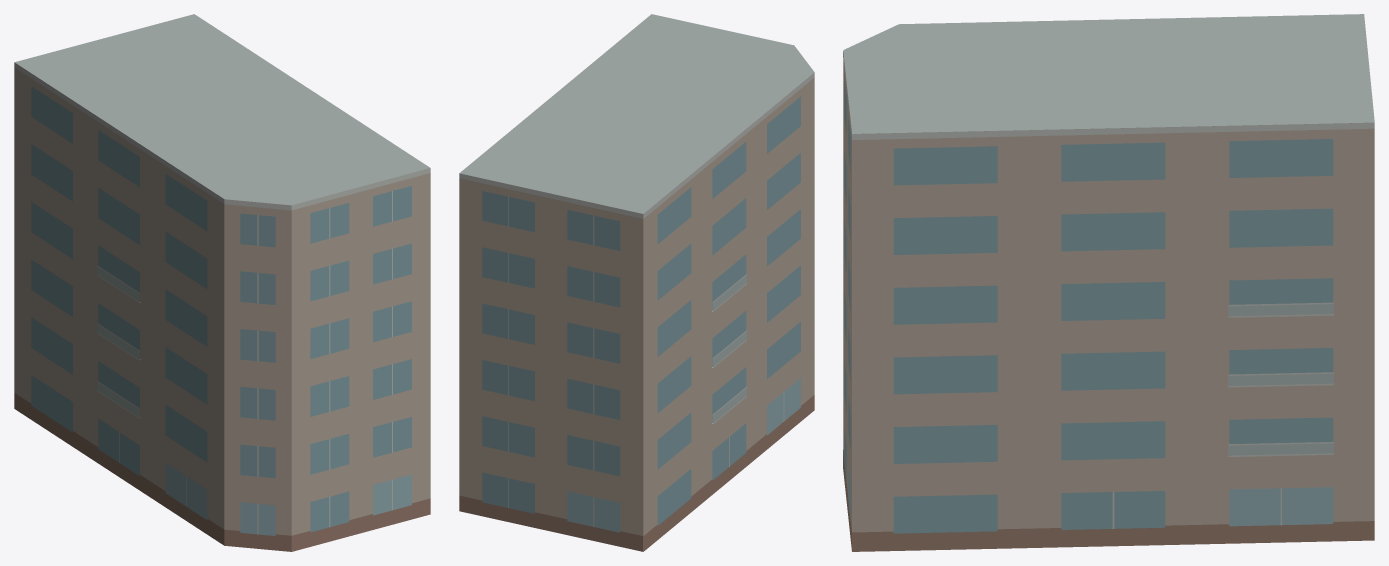
The model's file is survey-upis-32696720.glb.
3 renders of one model, left to right at view 1: azimuth 30°, elevation 25°; view 2: azimuth 150°, elevation 25°; view 3: azimuth 270°, elevation 25°, orthographic. The views are drawn at different scales.
Visible parts, largest first — view 1: survey-upis-32696720.tmp; view 2: survey-upis-32696720.tmp; view 3: survey-upis-32696720.tmp.
Boxes of the visible parts, x1,y1,x2,y2 form: survey-upis-32696720.tmp: (14, 14, 430, 551); survey-upis-32696720.tmp: (459, 14, 814, 551); survey-upis-32696720.tmp: (843, 14, 1374, 551).
Size of the model in its own units: 10.29 by 16.7 by 19.27.
